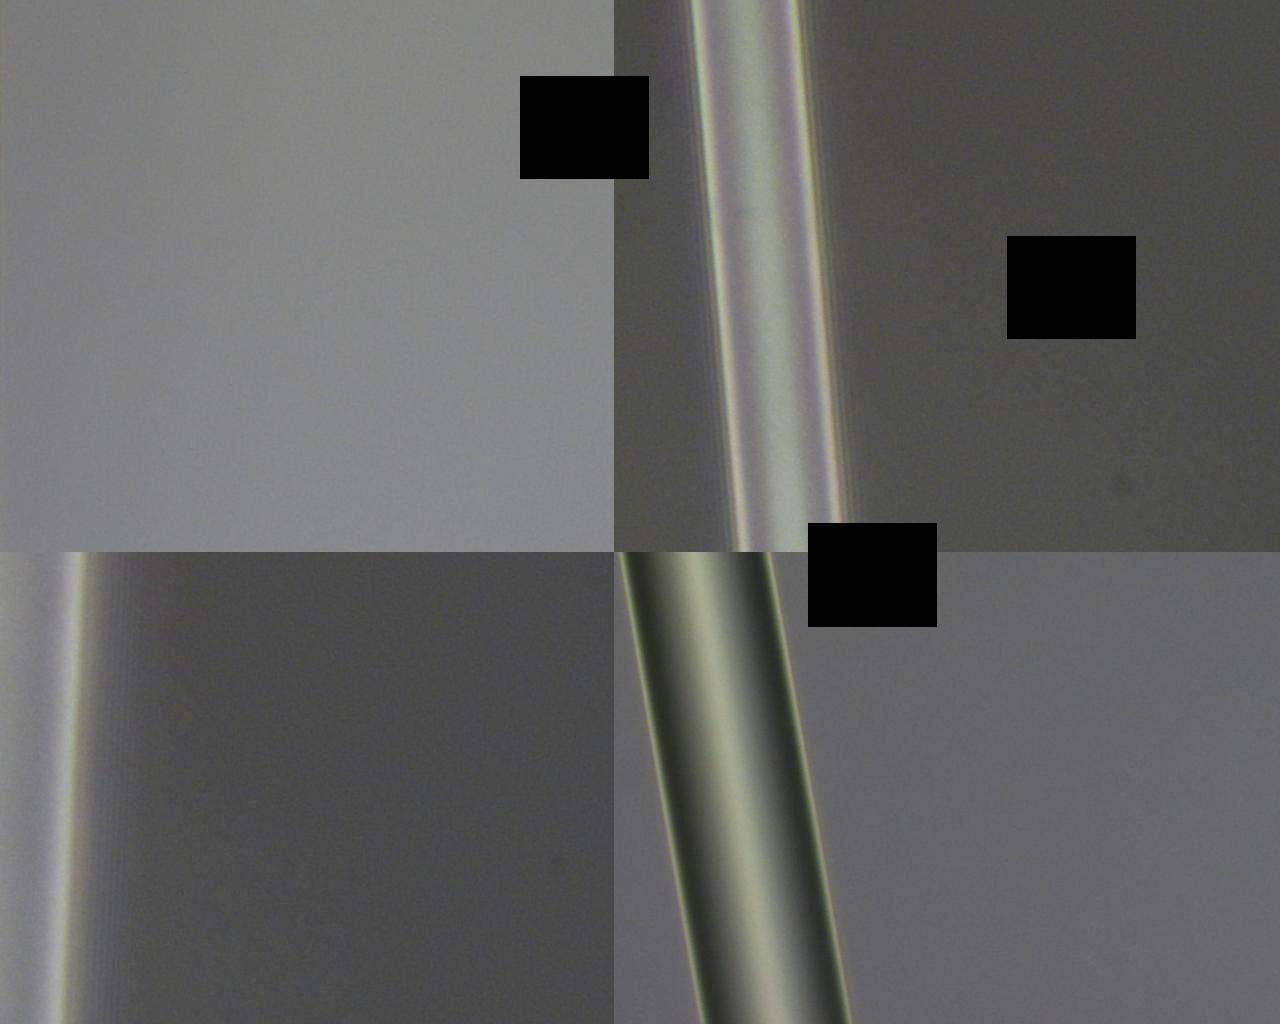fiber: (106, 440, 494, 1024), (614, 440, 1280, 754), (614, 0, 997, 440), (0, 129, 614, 156)
